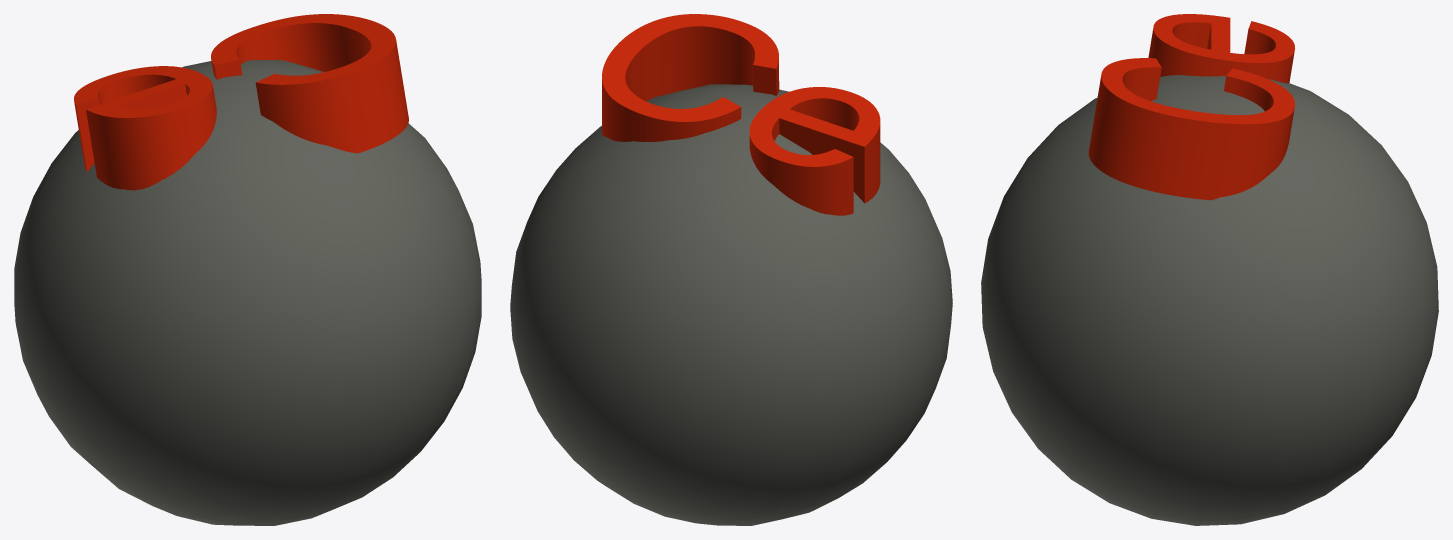
The picture shows the model from 3 angles, left to right: view 1: azimuth 30°, elevation 25°; view 2: azimuth 150°, elevation 25°; view 3: azimuth 270°, elevation 25°; orthographic projection. The views are drawn at different scales.
Parts seen in each view (by area): view 1: Ce; view 2: Ce; view 3: Ce.
Boxes of the visible parts, x1,y1,x2,y2 form: Ce: [14, 14, 481, 525]; Ce: [510, 14, 952, 525]; Ce: [981, 14, 1438, 525].
Size of the model in its own units: 38.67 by 42.12 by 38.67.
